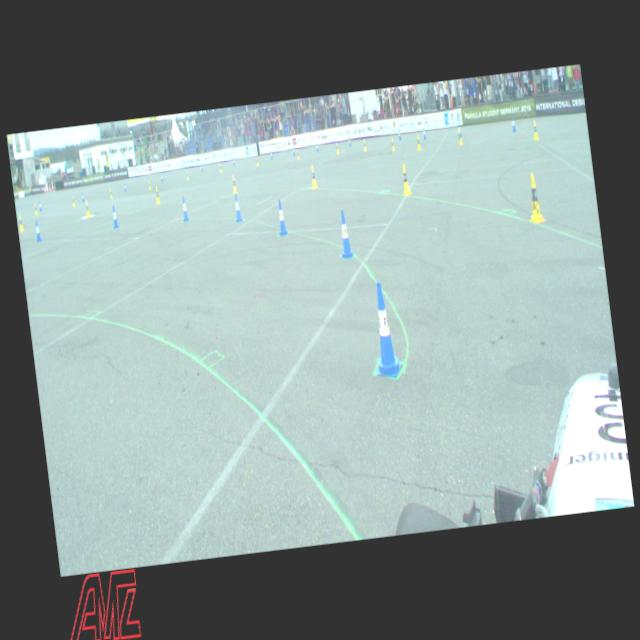blue_cone: (365, 280, 402, 378), (336, 208, 354, 258), (275, 198, 287, 234), (232, 192, 242, 222), (180, 196, 189, 220), (111, 205, 119, 228), (34, 220, 42, 242), (511, 116, 516, 131), (458, 122, 462, 137), (422, 127, 426, 139), (38, 201, 42, 211), (398, 128, 401, 140), (292, 146, 295, 156), (160, 173, 163, 182), (81, 192, 84, 201), (200, 162, 203, 171), (232, 157, 235, 165), (124, 182, 126, 192), (316, 142, 318, 152), (348, 136, 350, 146), (270, 150, 272, 158)
yellow_cone: (523, 172, 545, 223), (399, 162, 412, 195), (309, 164, 317, 188), (230, 174, 237, 194), (17, 214, 24, 232), (532, 120, 538, 140), (154, 186, 161, 203), (84, 200, 90, 218), (415, 134, 421, 150), (457, 128, 462, 144), (362, 138, 367, 152), (390, 138, 395, 150), (34, 203, 38, 215), (335, 142, 339, 154), (71, 195, 75, 206), (218, 162, 222, 172), (109, 188, 113, 198), (296, 148, 299, 160), (255, 157, 258, 166), (186, 171, 188, 180), (148, 180, 150, 189)
